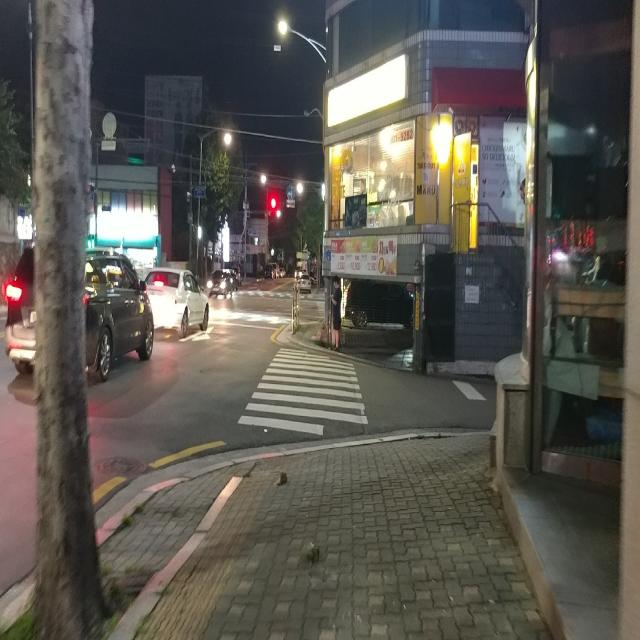횡단보도: (237, 346, 369, 438)
